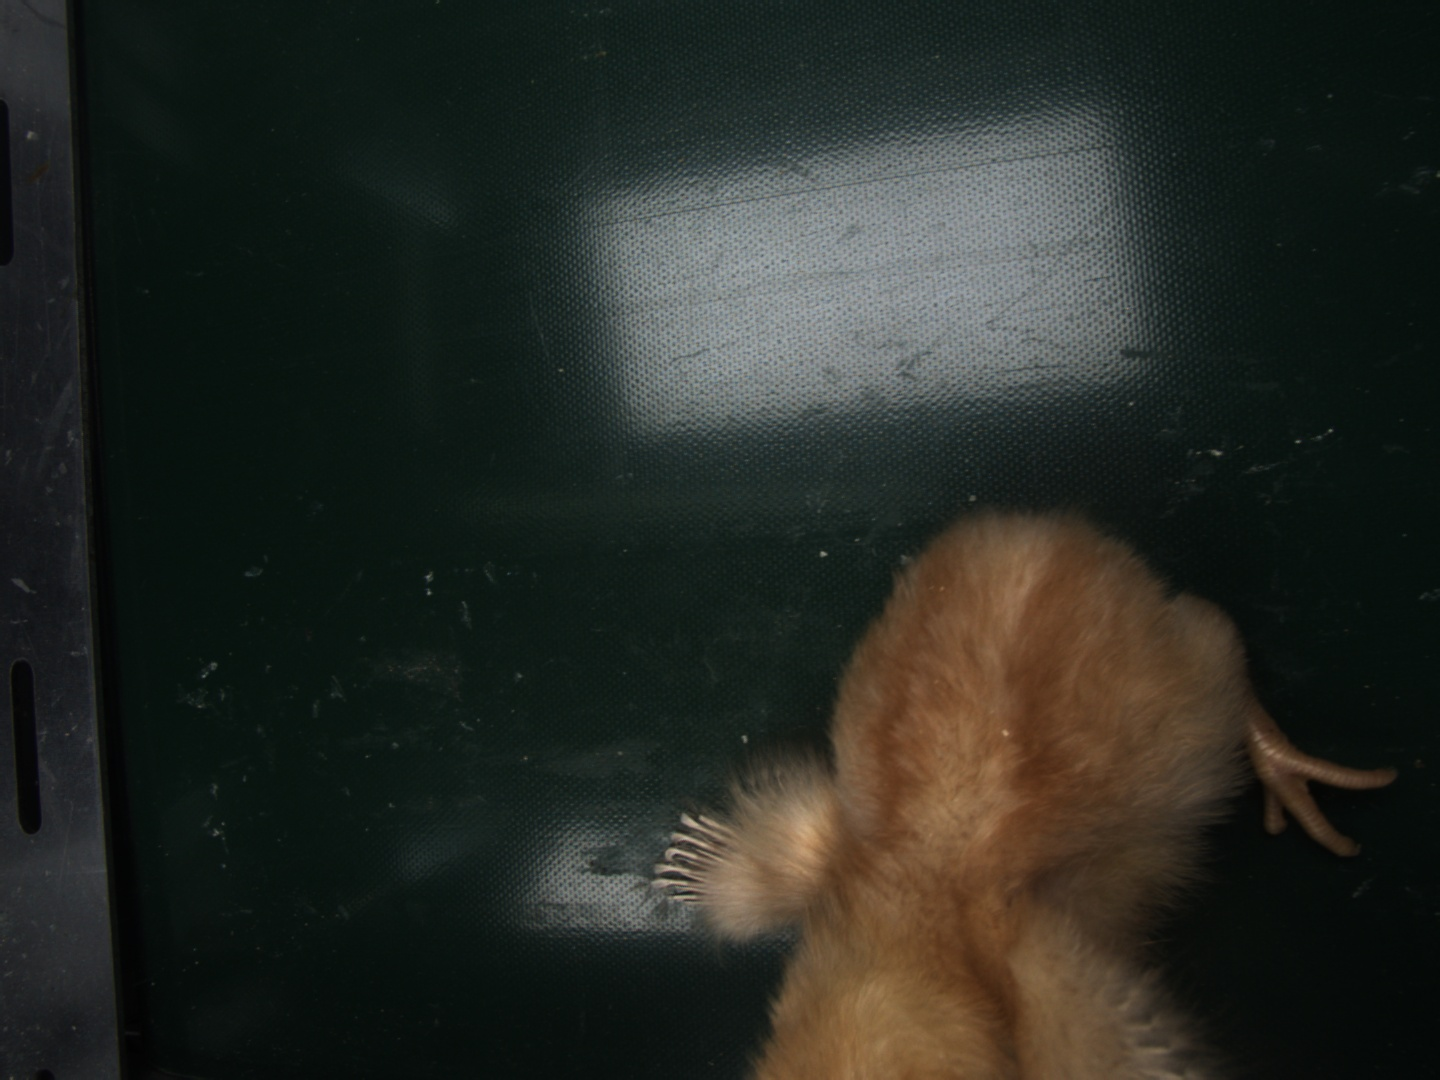female: (647, 810, 737, 905)
